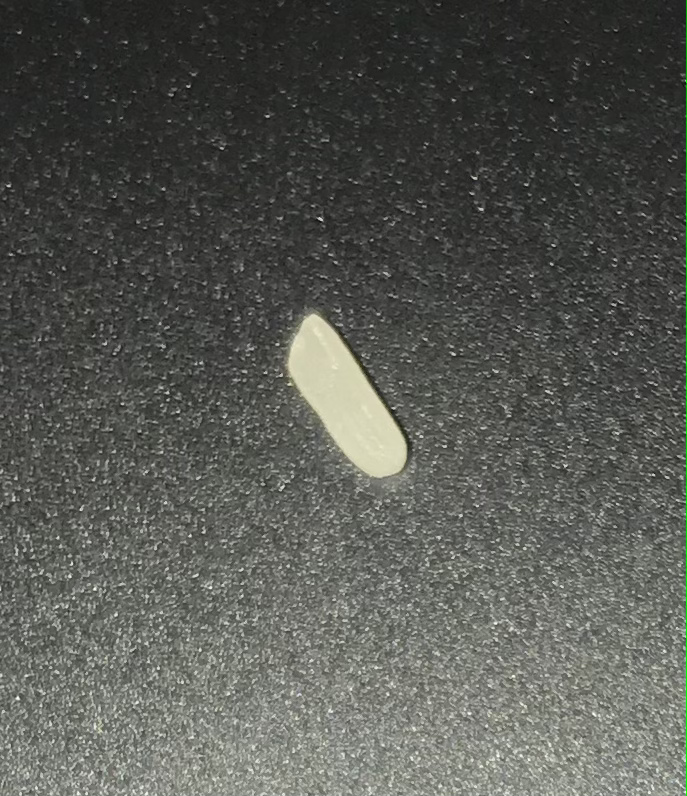Gao Tam Thom: (290, 304, 409, 485)
